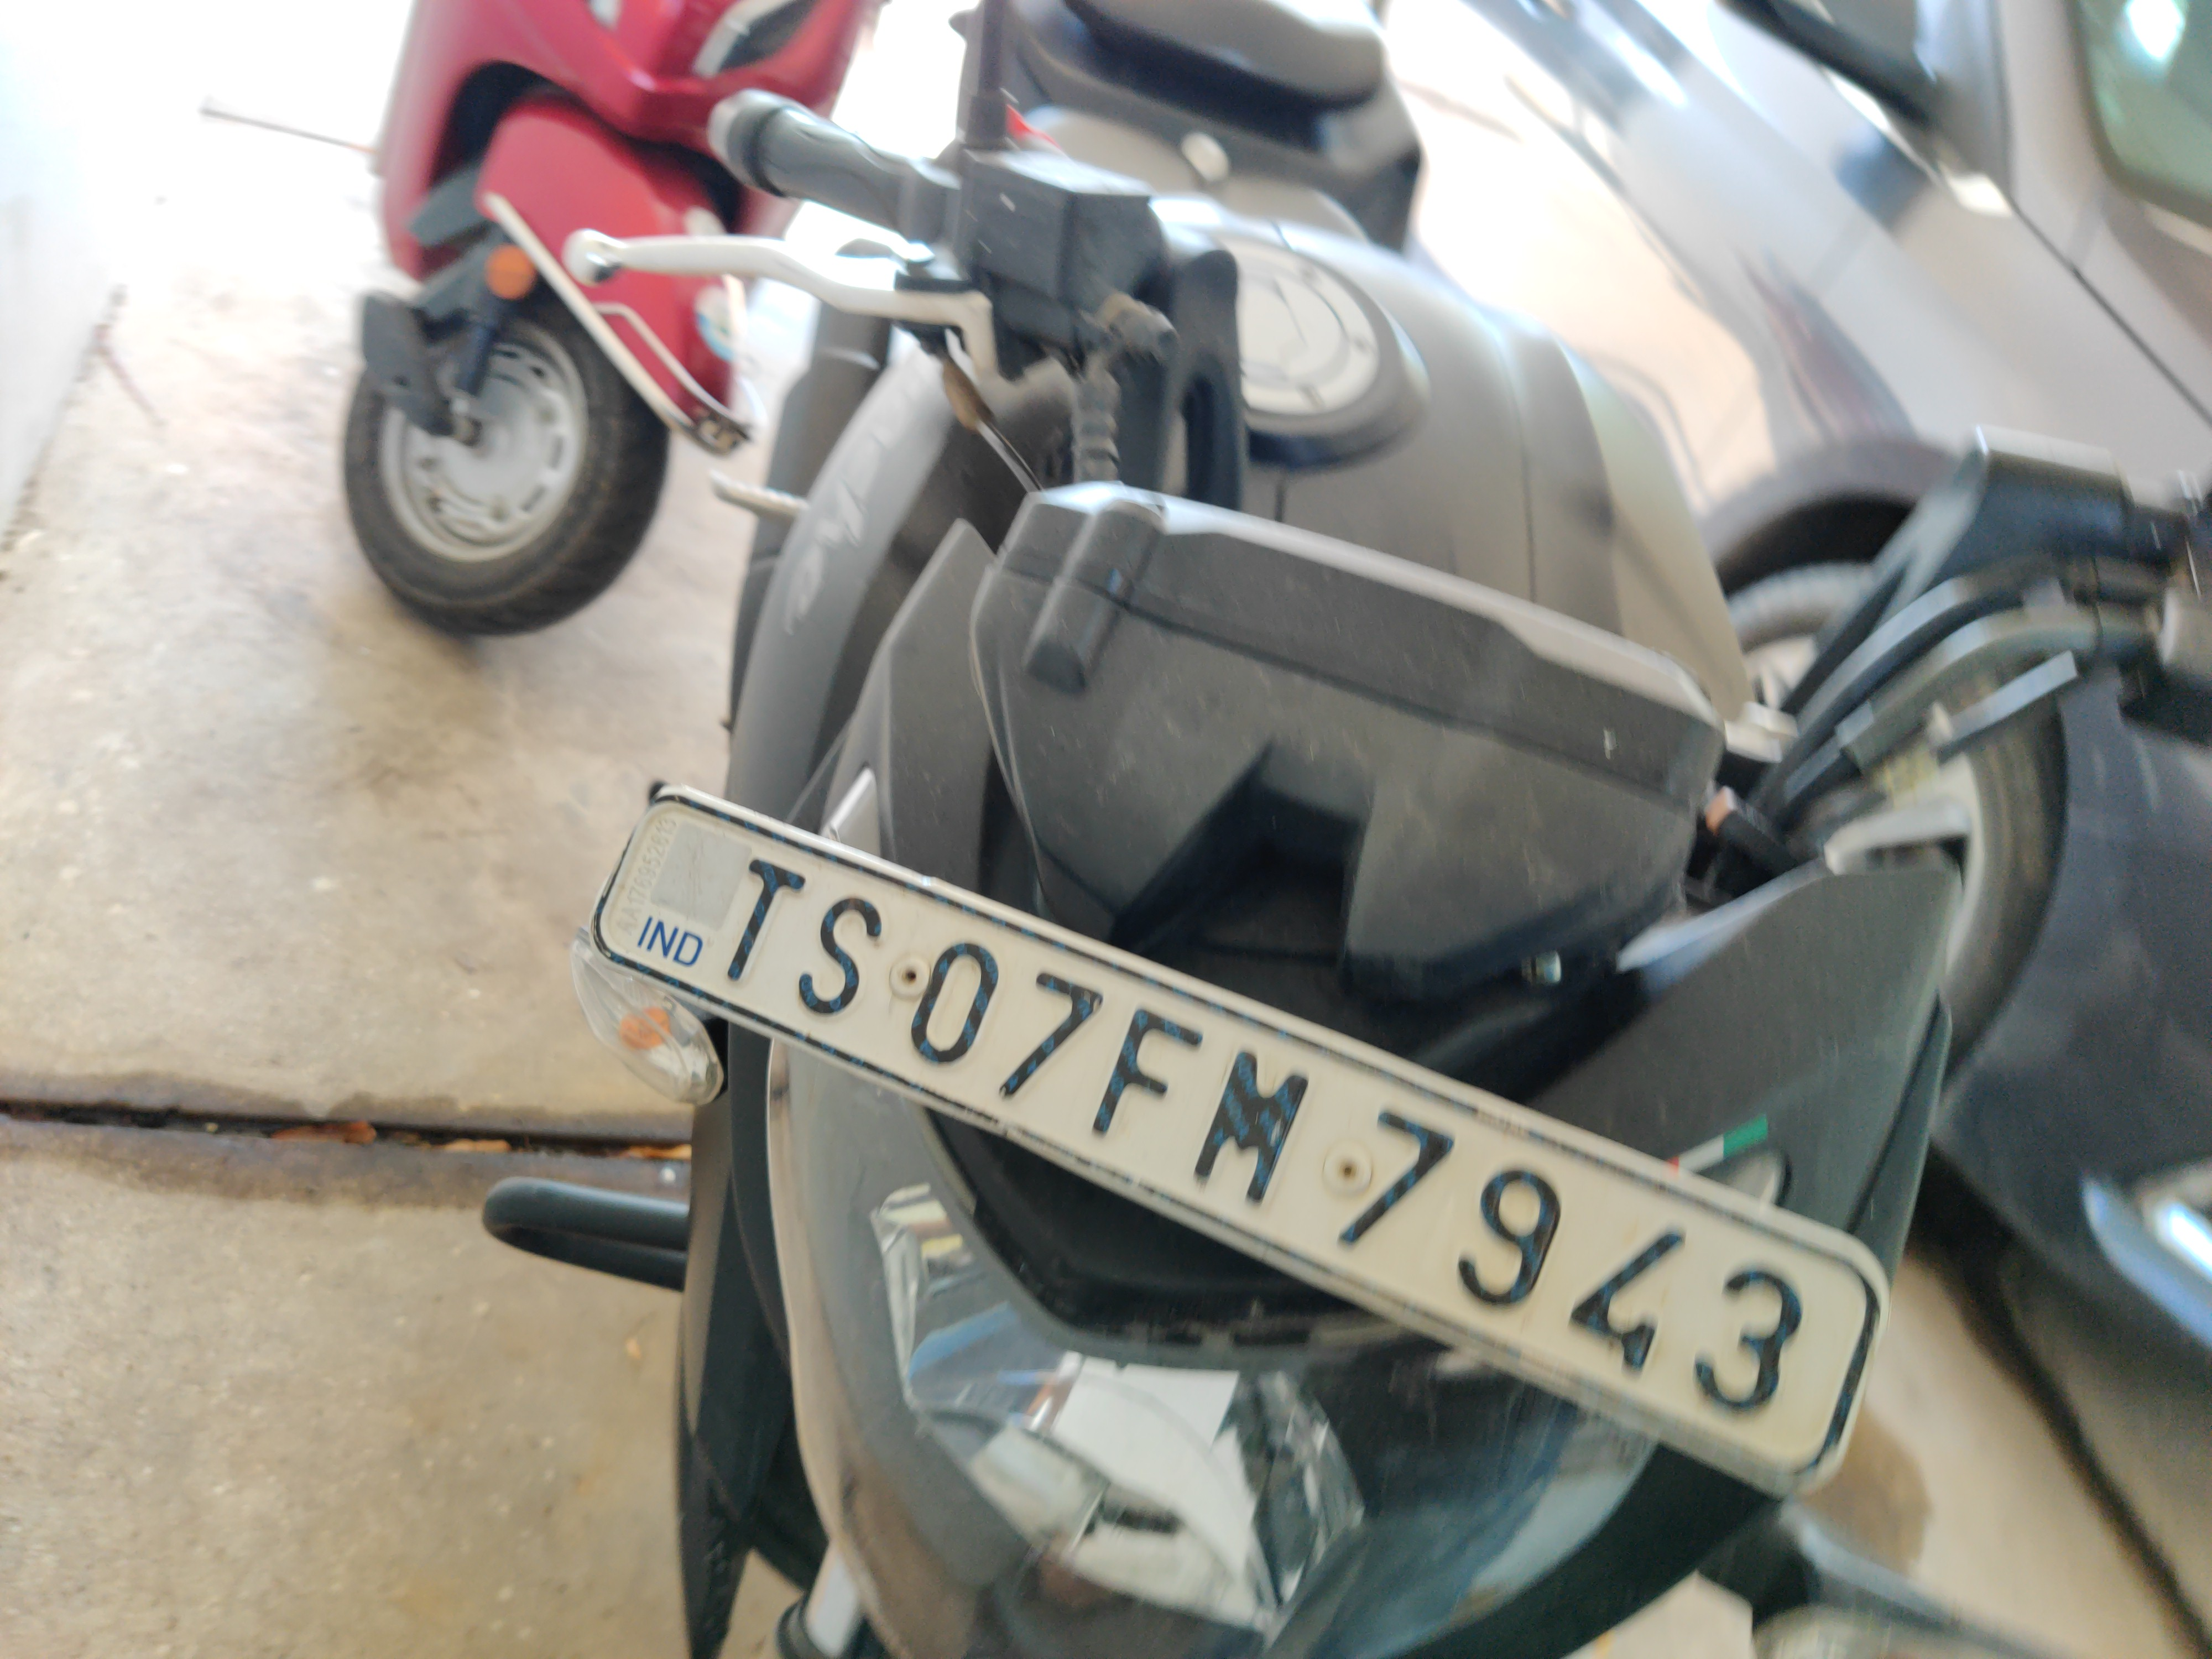plate: (571, 748, 1917, 1500)
